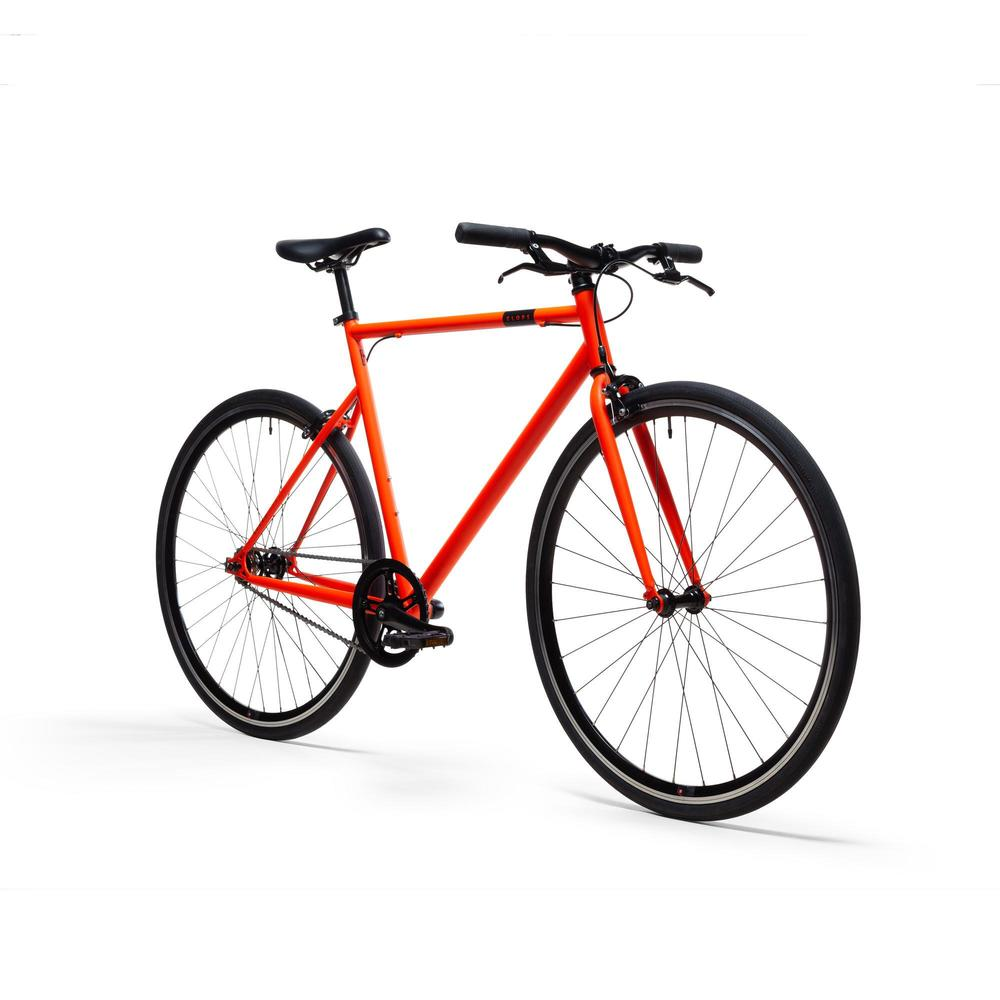UrbanBike: (154, 215, 841, 821)
